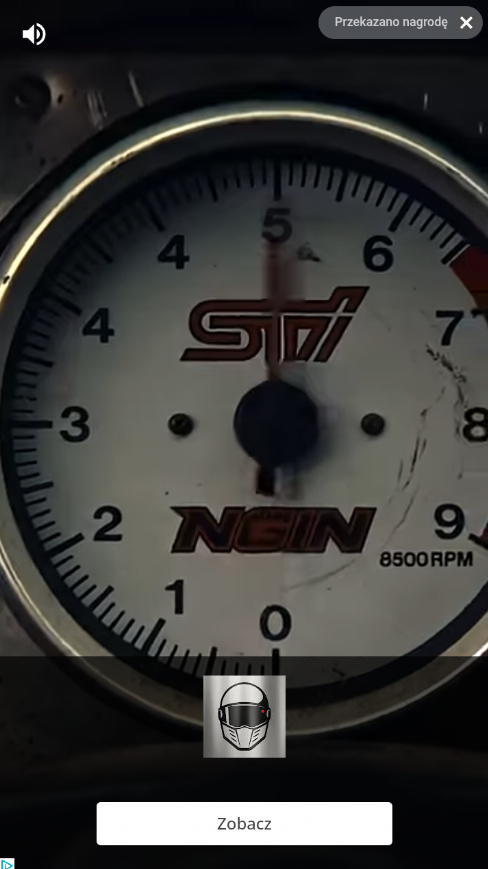close_button: (455, 14, 478, 31)
